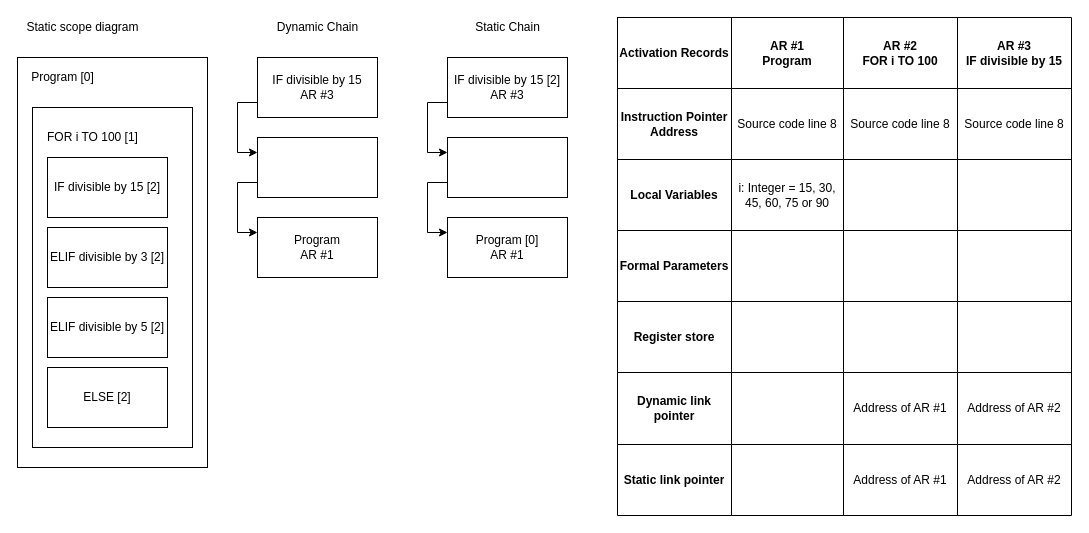
Image size: 1089x533. Some labels were removed from this diagram. Here are the shapes that lost their labels. From the top down, the box of each, then its label:
(256, 136, 378, 198): FOR i TO 100 AR #2
(446, 136, 568, 198): FOR i TO 100 [1] AR #2
